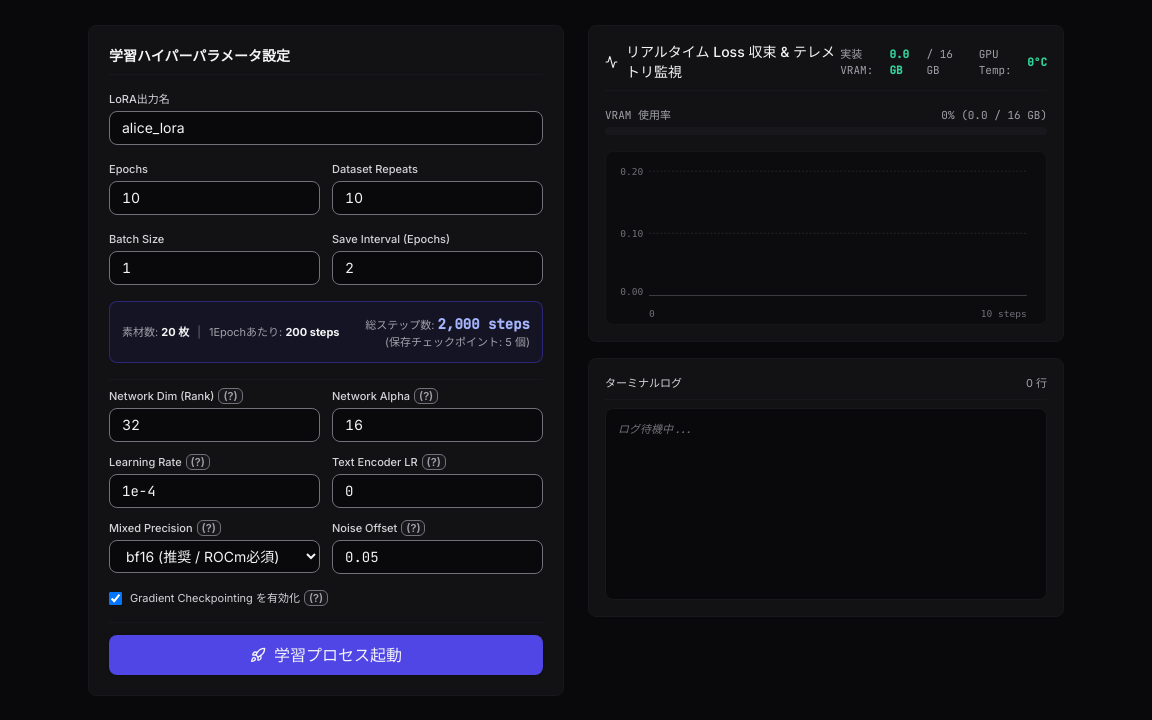
Test: TrainingConfigPanel Component › handles training job creation and startup lifecycle
(page scrolled)
What coordinates should you click on to do the following:
click the button with test id "btn-start-training"
I would click on:
 (326, 655)
Its box is [109,635,543,675].
(page scrolled)
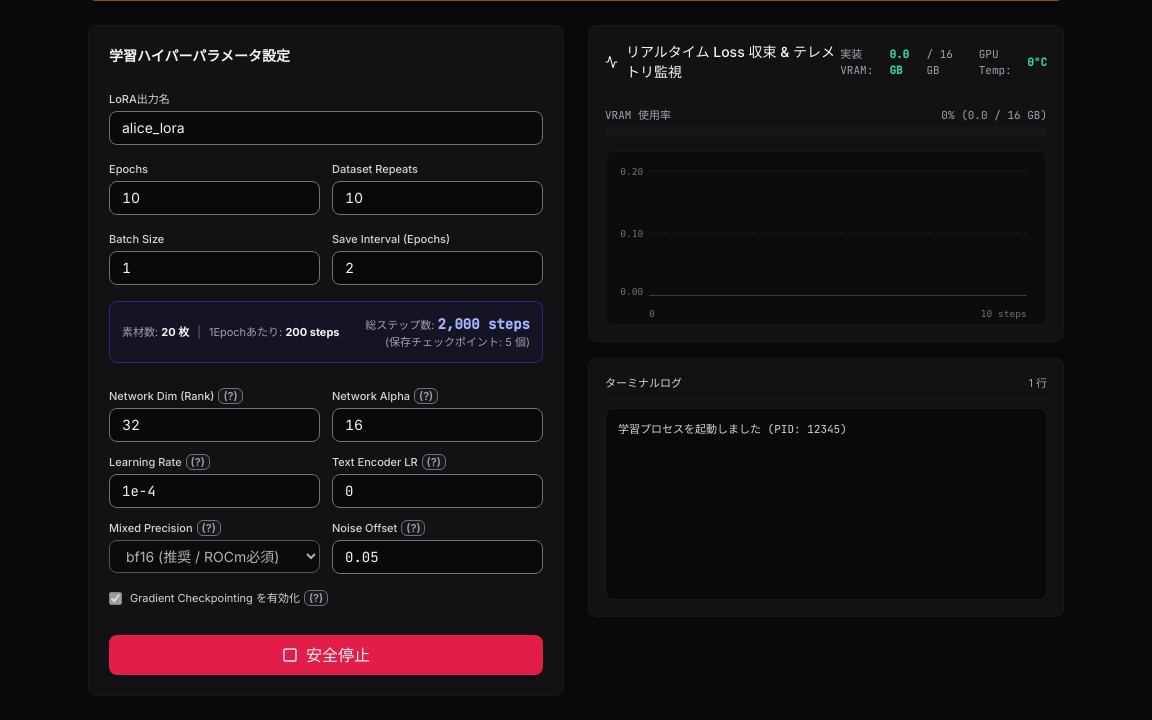
Expected: the button with test id "btn-stop-training" is shown, [109,635,543,675]
